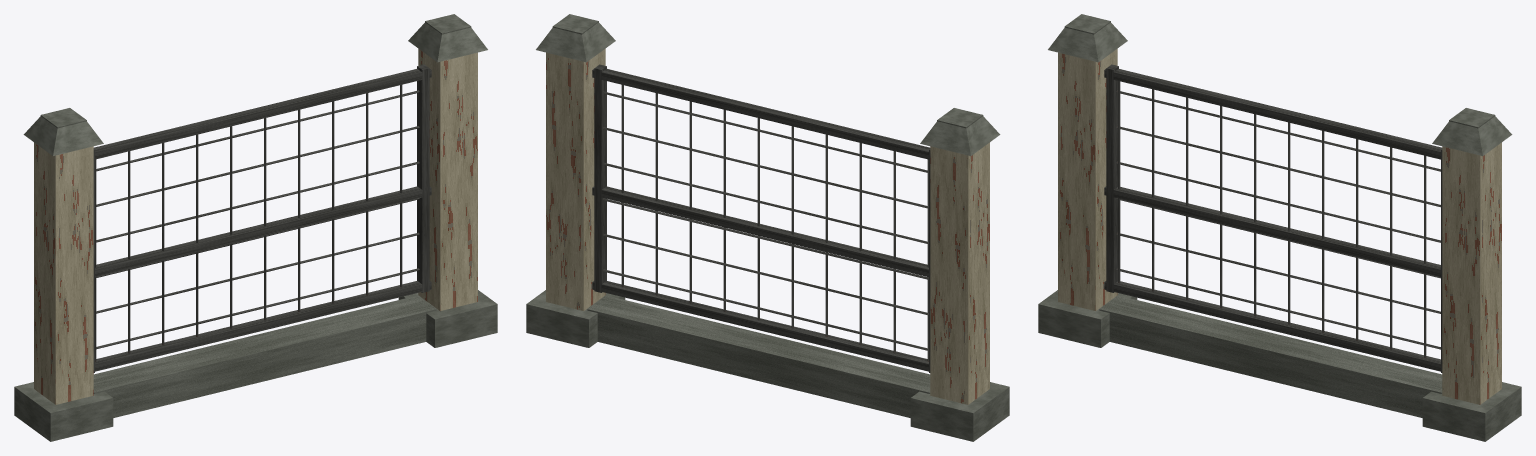
File: base_fence_lod.gltf
3 views of the same model, side by side, from view 1: azimuth 30°, elevation 25°; view 2: azimuth 150°, elevation 25°; view 3: azimuth 330°, elevation 25° (orthographic).
Visible parts, largest first — view 1: base_fence_lod; view 2: base_fence_lod; view 3: base_fence_lod.
Boxes of the visible parts, box(x1,y1,x2,y2) form: base_fence_lod: box(14, 14, 497, 441); base_fence_lod: box(526, 14, 1009, 441); base_fence_lod: box(1038, 14, 1521, 441).
Bounding box in the file's own units: 3.42 × 2.22 × 0.48.
Materials: 1 (1 with a texture image).
